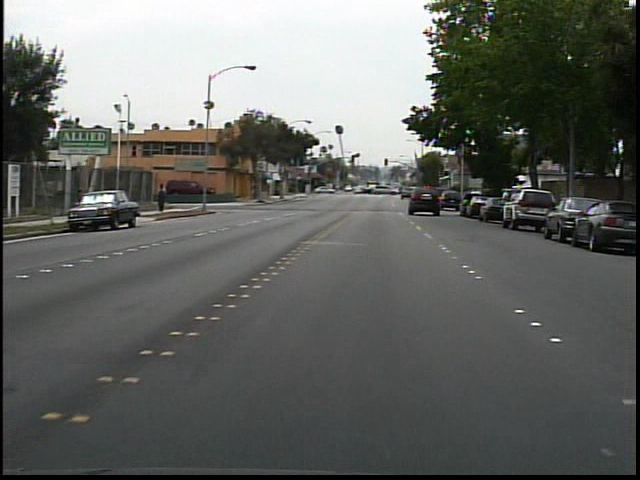person: (155, 180, 174, 218)
